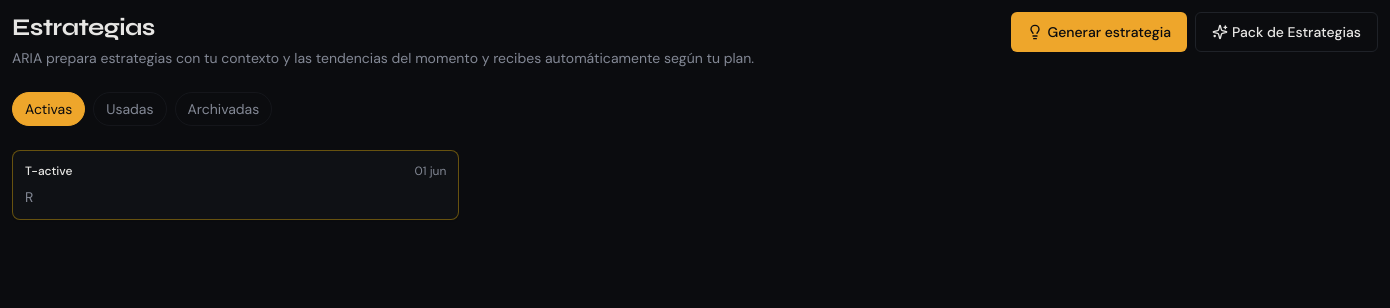
Test: Estrategias Fase B.2 · Usadas = ideas sueltas › test_usadas_muestra_ideas · chip Usadas → IdeaUsageCard (no StrategyCard)
Click the button "Usadas": (130, 109) [93, 92, 167, 126]
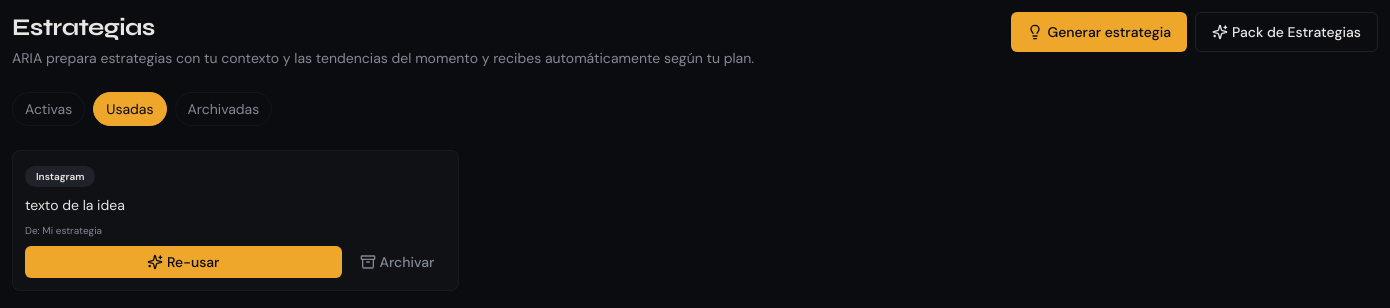
expect the text "texto de la idea" is shown: met, box [25, 196, 125, 214]
expect the text "T-active" is gone: met
